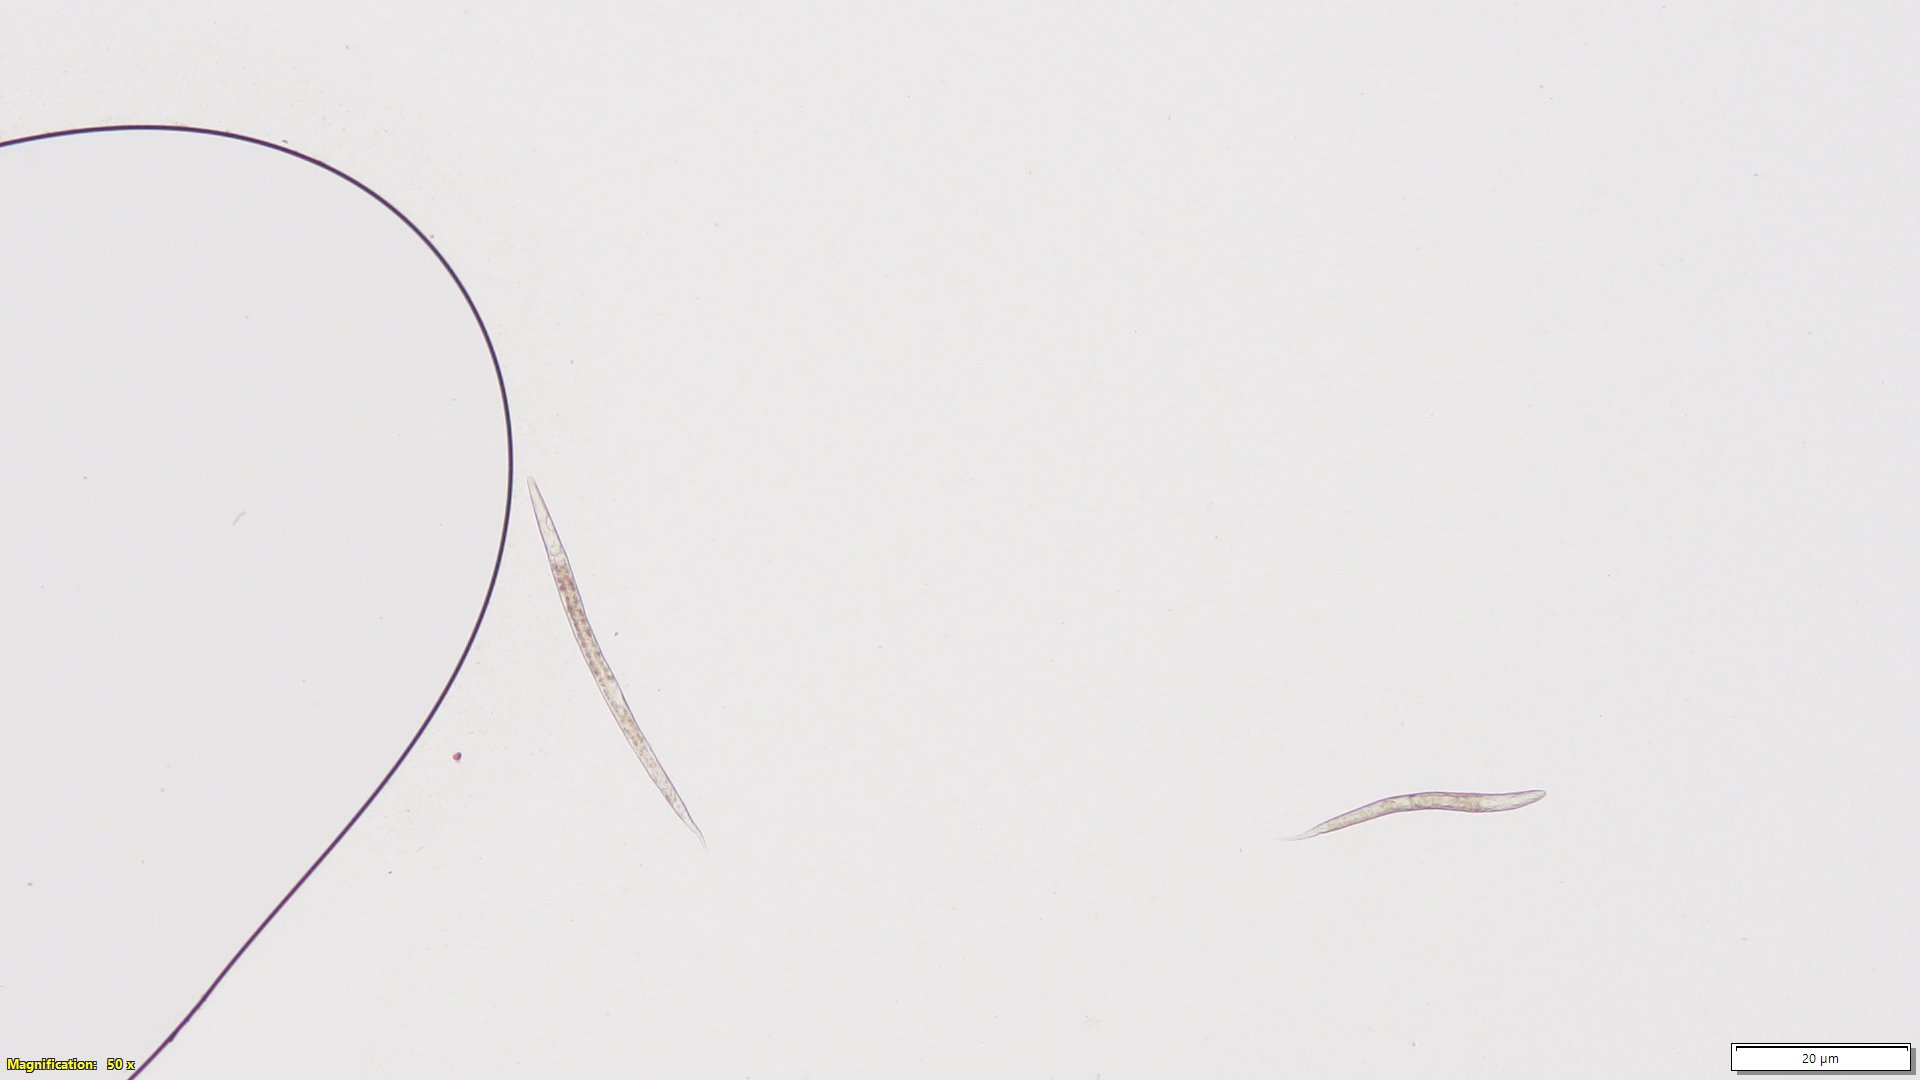celeg: (521, 471, 728, 856), (1269, 774, 1553, 847)
